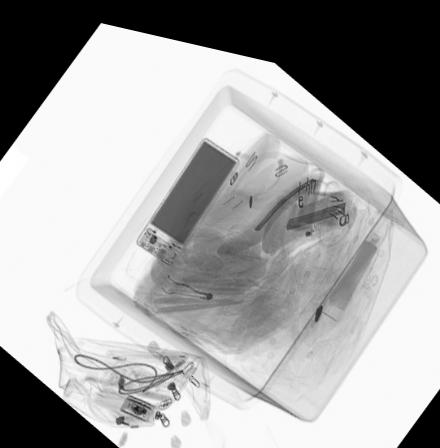Powerbank: (133, 123, 243, 261)
